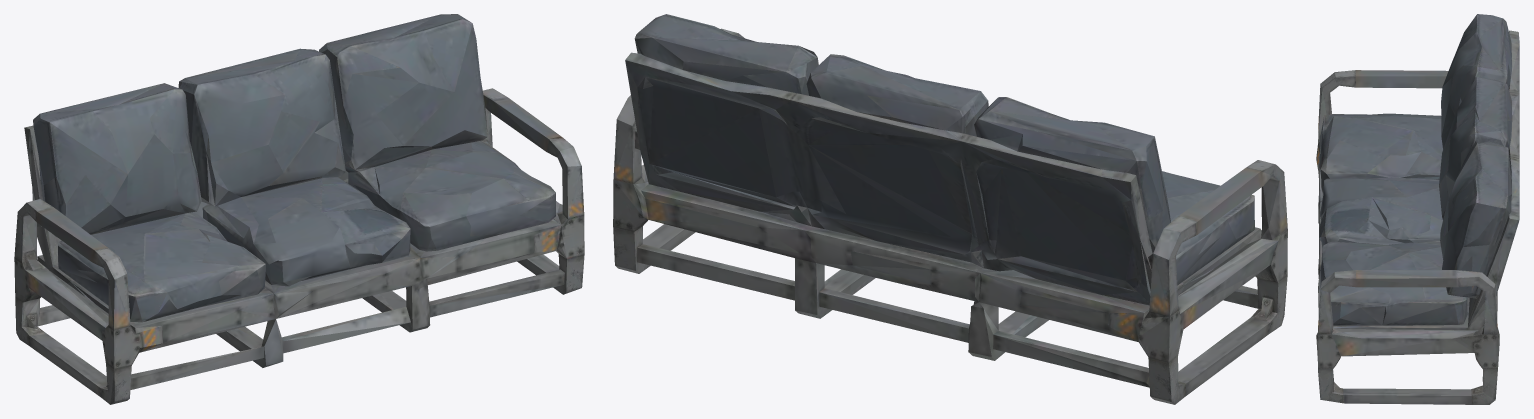
The model's file is sofa.glb.
3 renders of one model, left to right at view 1: azimuth 30°, elevation 25°; view 2: azimuth 150°, elevation 25°; view 3: azimuth 270°, elevation 25°, orthographic. The views are drawn at different scales.
Visible parts, largest first — view 1: Mesh_0; view 2: Mesh_0; view 3: Mesh_0.
Part boxes in pixels (left/top/right/bottom): Mesh_0: left=14, top=14, right=584, bottom=404; Mesh_0: left=613, top=14, right=1287, bottom=404; Mesh_0: left=1316, top=14, right=1519, bottom=404.
Bounding box in the file's own units: 2.2 × 0.9784 × 0.9121.
1 material, 1 textured.
